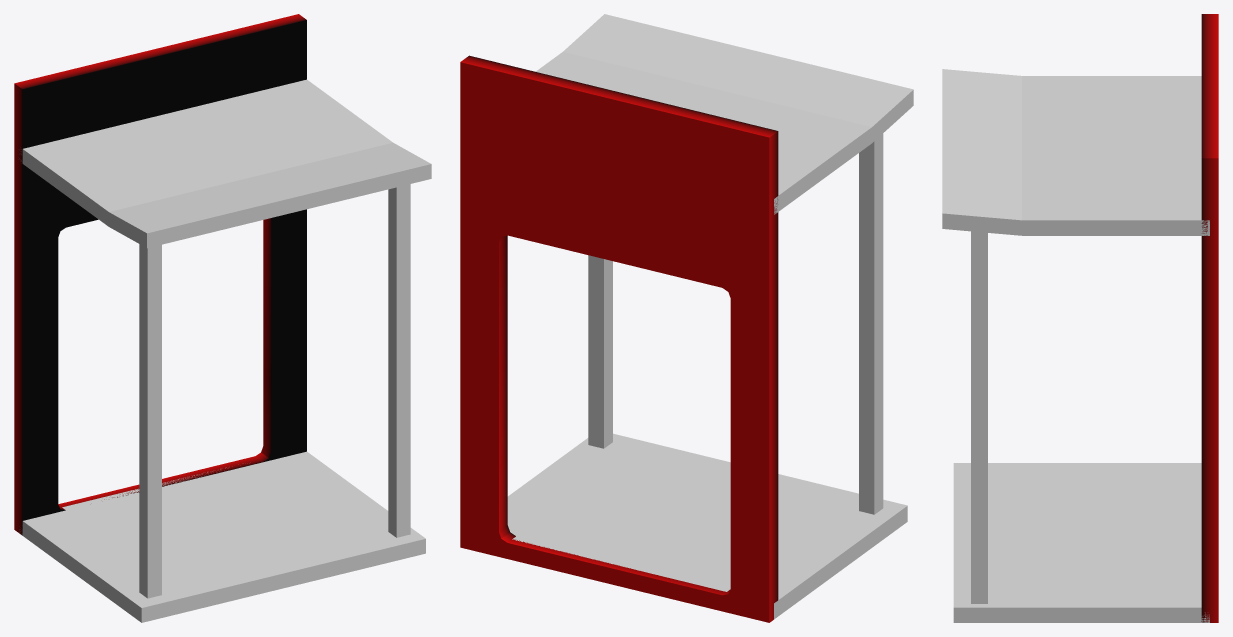
The model's file is FlatEntrance.fbx.
The picture shows the model from 3 angles, left to right: view 1: azimuth 30°, elevation 25°; view 2: azimuth 150°, elevation 25°; view 3: azimuth 270°, elevation 25°; orthographic projection. The views are drawn at different scales.
Parts seen in each view (by area): view 1: FlatEntrance_1_FlatEntrance_1, Cube_1, Cube_2, Cube_2_2, Cube; view 2: FlatEntrance_1_FlatEntrance_1, Cube_2, Cube_1, Cube_2_2, Cube; view 3: Cube_1, Cube_2, FlatEntrance_1_FlatEntrance_1, Cube.
Boxes of the visible parts, box(x1,y1,x2,y2) form: FlatEntrance_1_FlatEntrance_1: box(14, 14, 306, 535); Cube_1: box(19, 79, 431, 248); Cube_2: box(19, 451, 425, 622); Cube_2_2: box(139, 244, 161, 598); Cube: box(388, 184, 410, 537); FlatEntrance_1_FlatEntrance_1: box(460, 55, 778, 622); Cube_2: box(507, 433, 907, 619); Cube_1: box(536, 14, 913, 214); Cube_2_2: box(859, 133, 883, 514); Cube: box(588, 255, 612, 448); Cube_1: box(942, 69, 1209, 235); Cube_2: box(953, 463, 1209, 622); FlatEntrance_1_FlatEntrance_1: box(1201, 14, 1218, 622); Cube: box(971, 231, 987, 603).
Size of the model in its own units: 400 by 600 by 323.
